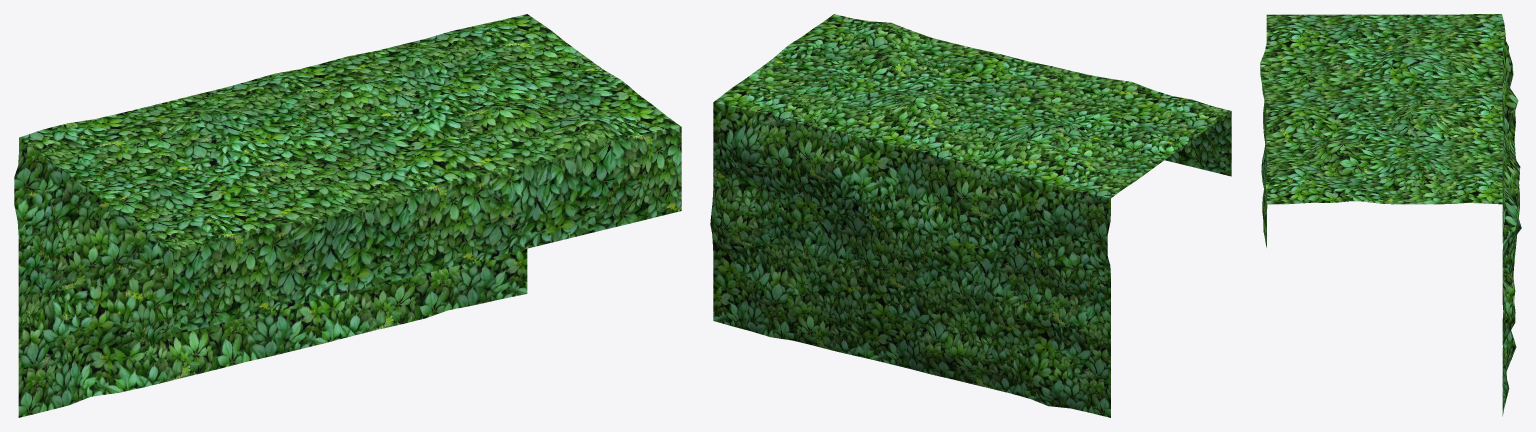
Rendered from LODHedge.fbx.
3 renders of one model, left to right at view 1: azimuth 30°, elevation 25°; view 2: azimuth 150°, elevation 25°; view 3: azimuth 270°, elevation 25°, orthographic. The views are drawn at different scales.
Visible parts, largest first — view 1: LOD_0; view 2: LOD_0; view 3: LOD_0.
Boxes of the visible parts, bbox=[...] form: LOD_0: bbox=[14, 14, 681, 417]; LOD_0: bbox=[710, 14, 1231, 417]; LOD_0: bbox=[1260, 14, 1521, 416].
Size of what is drawn, in the model's own units: 91.96 by 51.44 by 53.58.
1 material, 1 textured.
